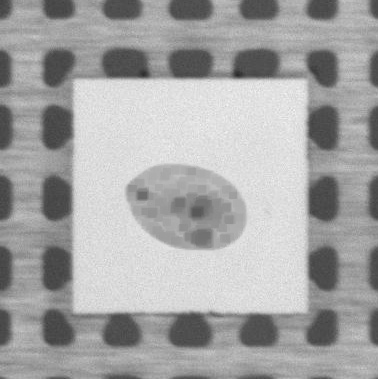DIE_INK: (123, 161, 248, 254)
